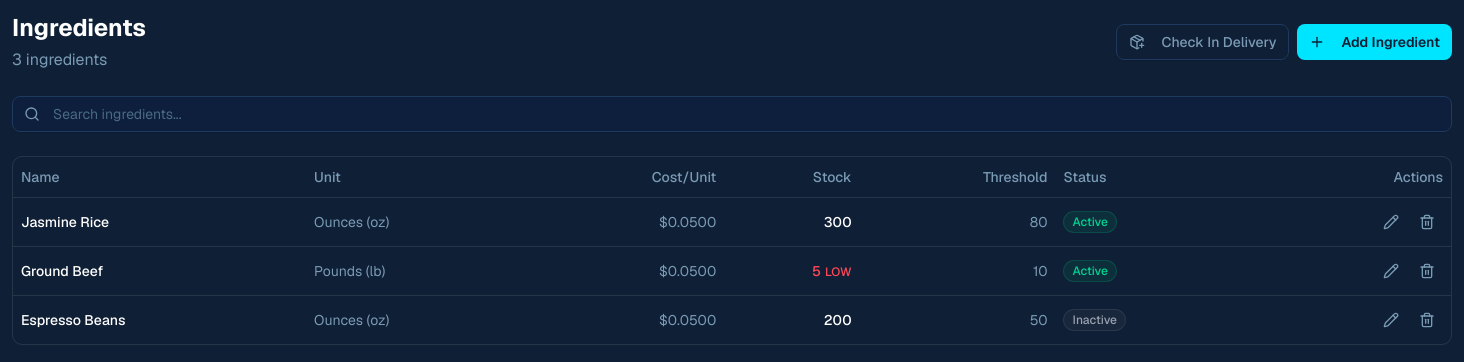
IngredientsPage › search filters cards on mobile
Type "rice" into the field with placeholder "Search ingredients..." at x=732, y=114, box 12,96 -> 1452,132
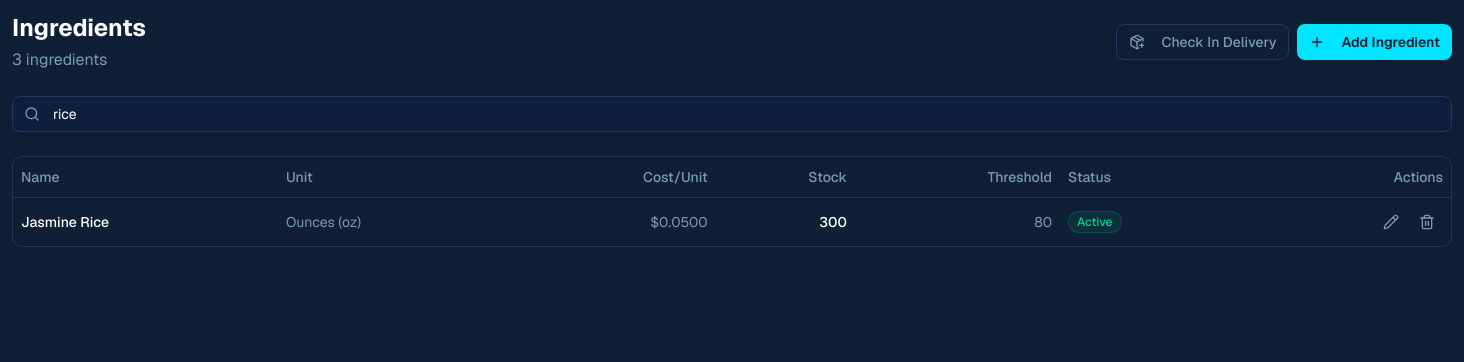
Expected: the text "Ground Beef" is gone
